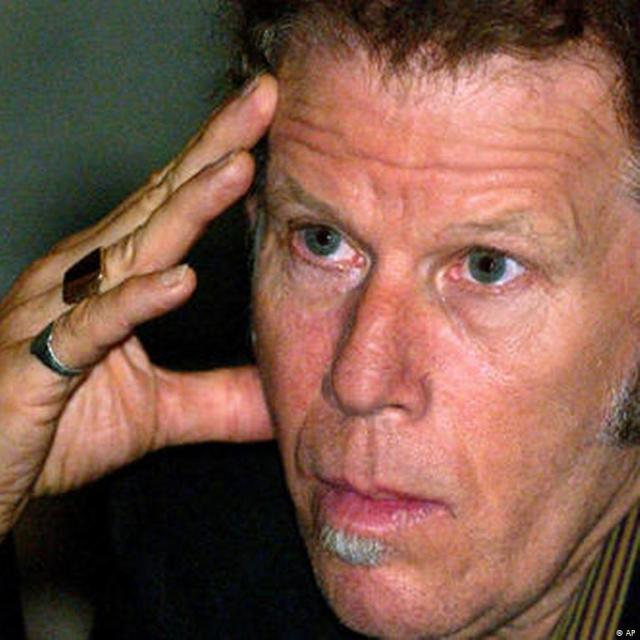forehead: (364, 144, 432, 188), (472, 154, 552, 188), (288, 104, 334, 158), (514, 114, 580, 142)
gummy_smile: (286, 420, 318, 482)
